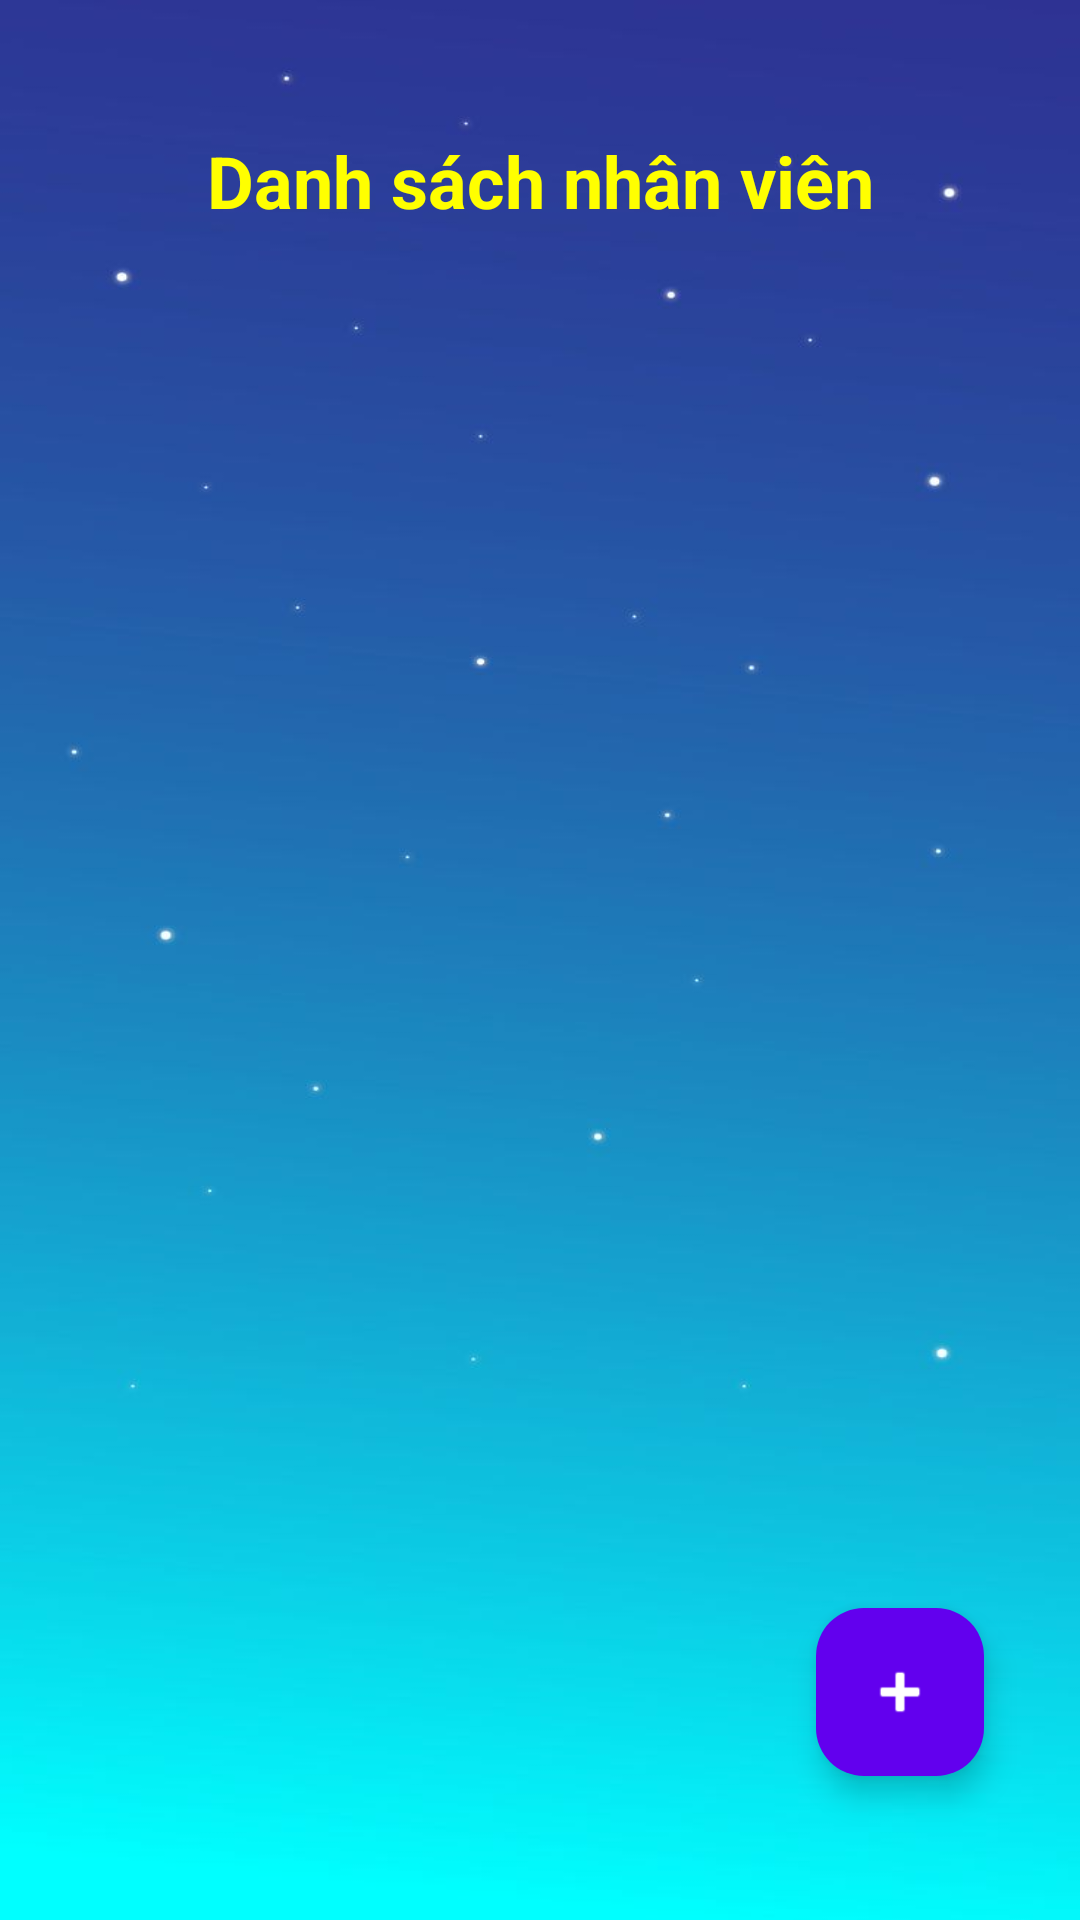

Icons on this 1080*1920 Android screen, each with its box as bbox=[x1, y1, x2, y2]:
Thêm nhân viên mới: bbox=[816, 1608, 984, 1776]
